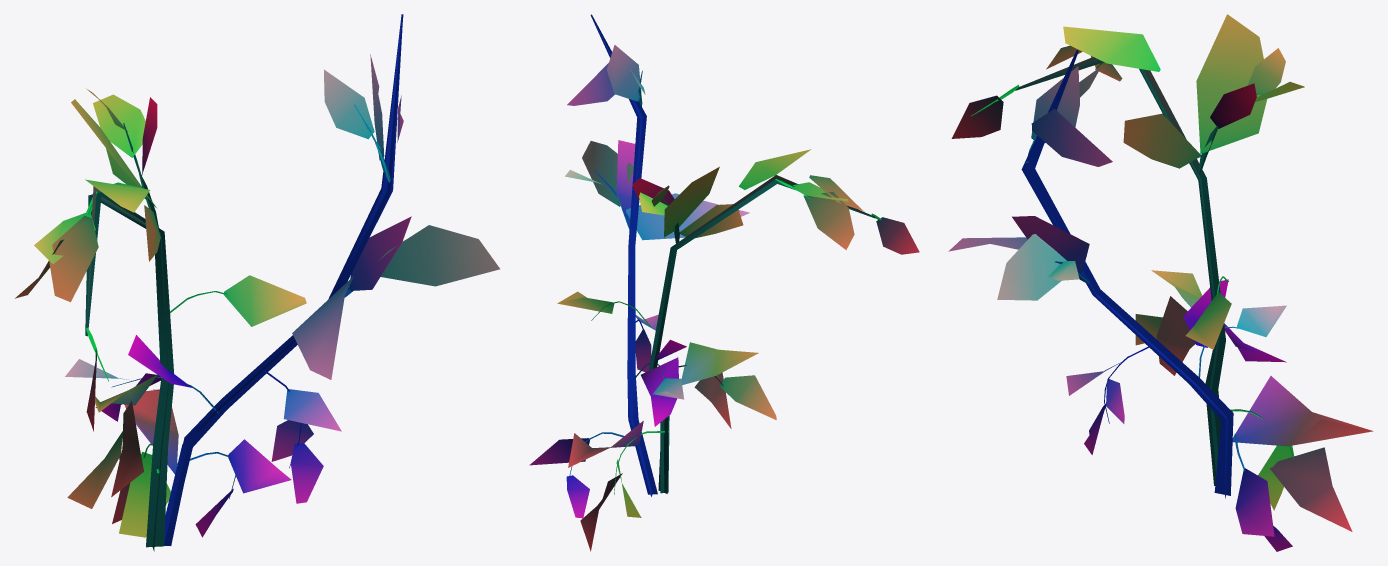
The model's file is Creeping_Saltbush_thckfiqr_Mid_thckfiqr_VarD_LOD1.fbx.
3 renders of one model, left to right at view 1: azimuth 30°, elevation 25°; view 2: azimuth 150°, elevation 25°; view 3: azimuth 270°, elevation 25°, orthographic. The views are drawn at different scales.
Visible parts, largest first — view 1: _3ab3_VarD_LOD2; view 2: _3ab3_VarD_LOD2; view 3: _3ab3_VarD_LOD2.
Part boxes in pixels (x1=…): _3ab3_VarD_LOD2: x1=15, y1=14, x2=499, y2=551; _3ab3_VarD_LOD2: x1=529, y1=14, x2=919, y2=551; _3ab3_VarD_LOD2: x1=948, y1=14, x2=1373, y2=551.
Size of the model in its own units: 26.47 by 34.16 by 24.01.
